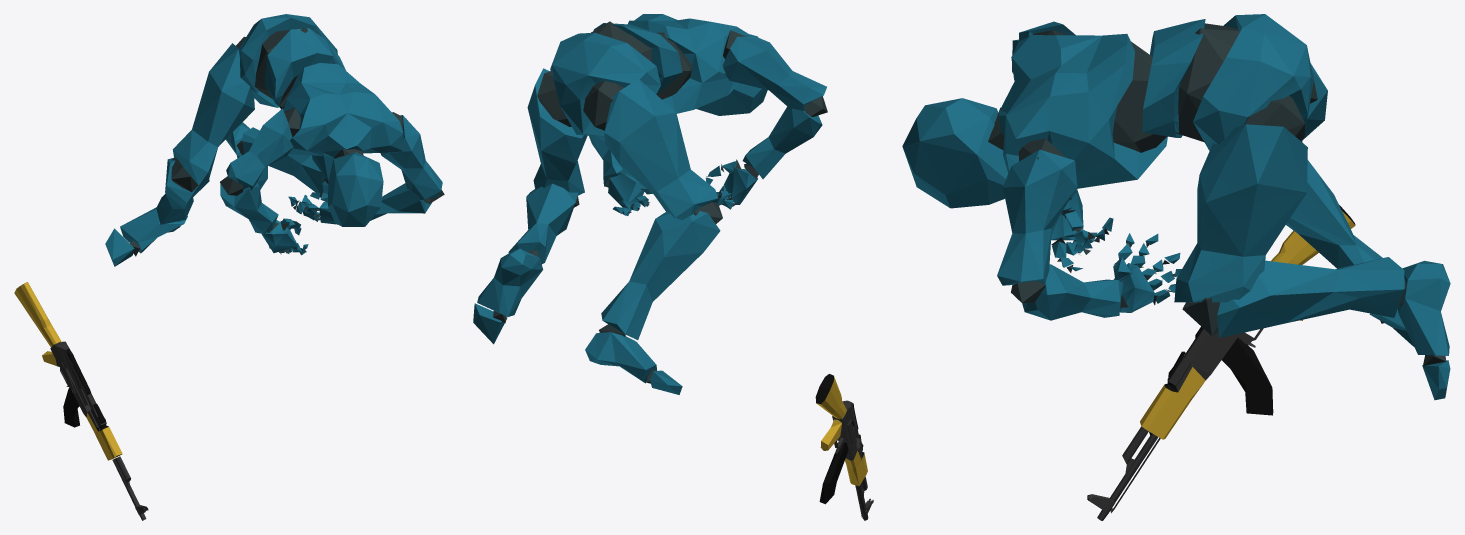
File: EnemyDying_000066.obj
The picture shows the model from 3 angles, left to right: view 1: azimuth 30°, elevation 25°; view 2: azimuth 150°, elevation 25°; view 3: azimuth 270°, elevation 25°; orthographic projection. The views are drawn at different scales.
Visible parts, largest first — view 1: Alpha_Surface, AK-47_Cube, Alpha_Joints; view 2: Alpha_Surface, Alpha_Joints, AK-47_Cube; view 3: Alpha_Surface, Alpha_Joints, AK-47_Cube.
Boxes of the visible parts, x1=… form: Alpha_Surface: x1=105, y1=14, x2=442, y2=266; AK-47_Cube: x1=14, y1=282, x2=148, y2=520; Alpha_Joints: x1=130, y1=28, x2=444, y2=256; Alpha_Surface: x1=473, y1=14, x2=826, y2=394; Alpha_Joints: x1=493, y1=21, x2=827, y2=383; AK-47_Cube: x1=815, y1=374, x2=873, y2=520; Alpha_Surface: x1=902, y1=14, x2=1450, y2=400; Alpha_Joints: x1=988, y1=23, x2=1446, y2=366; AK-47_Cube: x1=1087, y1=205, x2=1355, y2=520.
Bounding box in the file's own units: 235 × 294 × 229.
